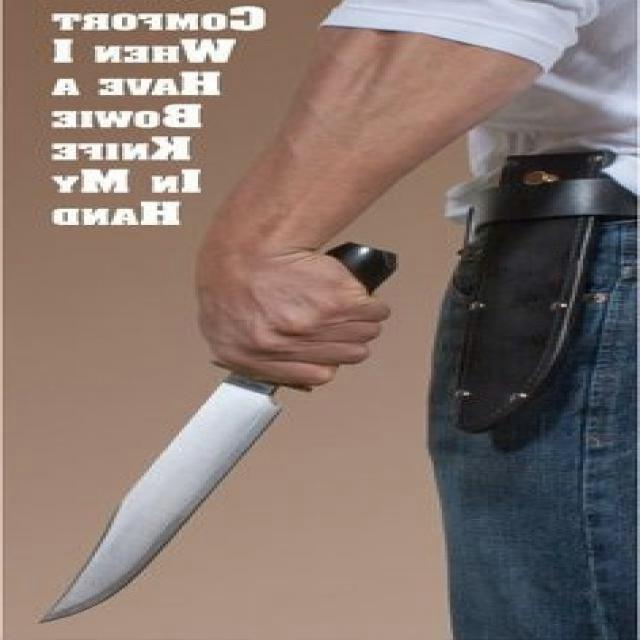Knife: (43, 375, 280, 621)
Knife_Handle: (14, 209, 445, 630)
